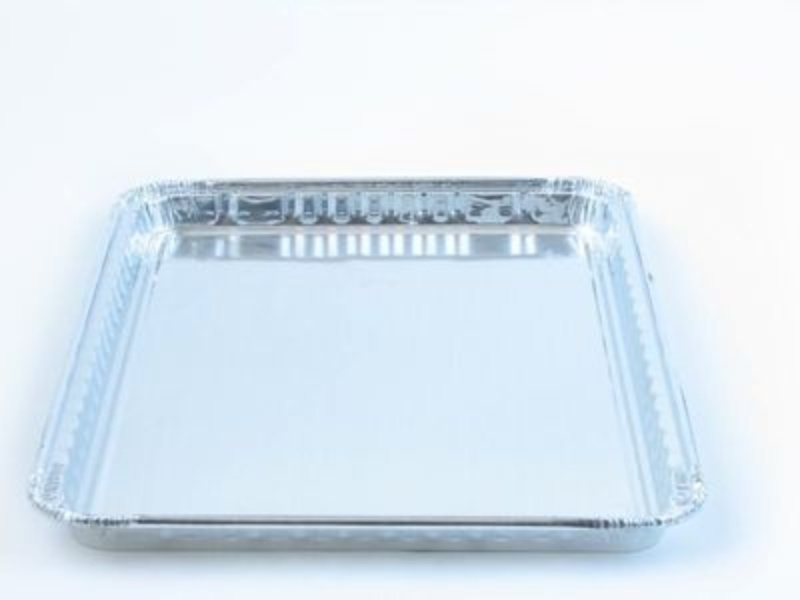Aluminium_Foil: (219, 280, 615, 477)
